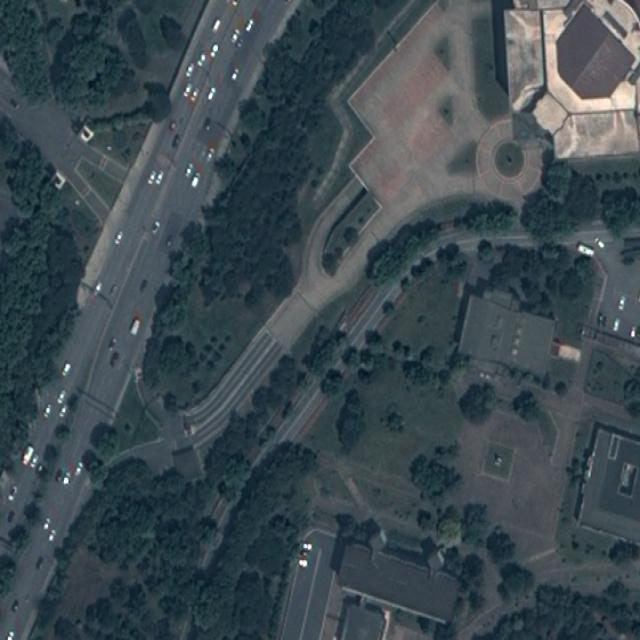Batiment: (339, 545, 459, 622), (459, 295, 555, 378), (556, 5, 635, 99), (579, 426, 640, 541)
